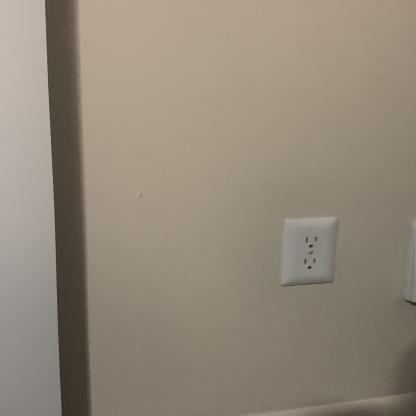OUTLET: (283, 217, 335, 285)
